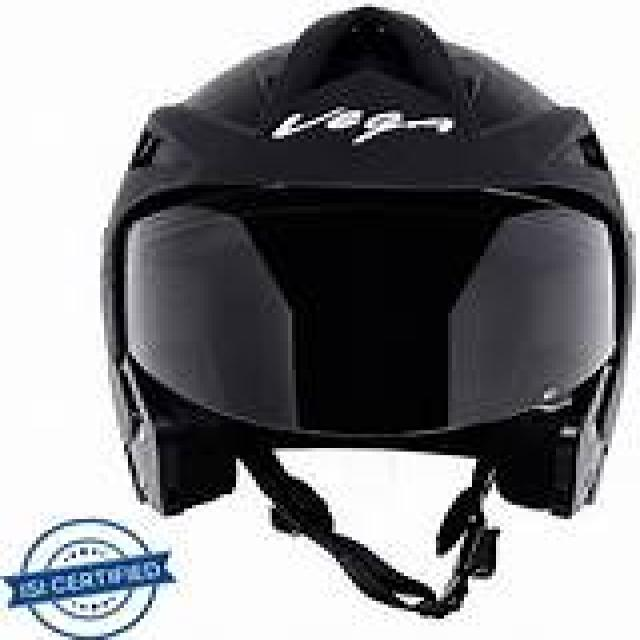helmet: (104, 7, 628, 604)
